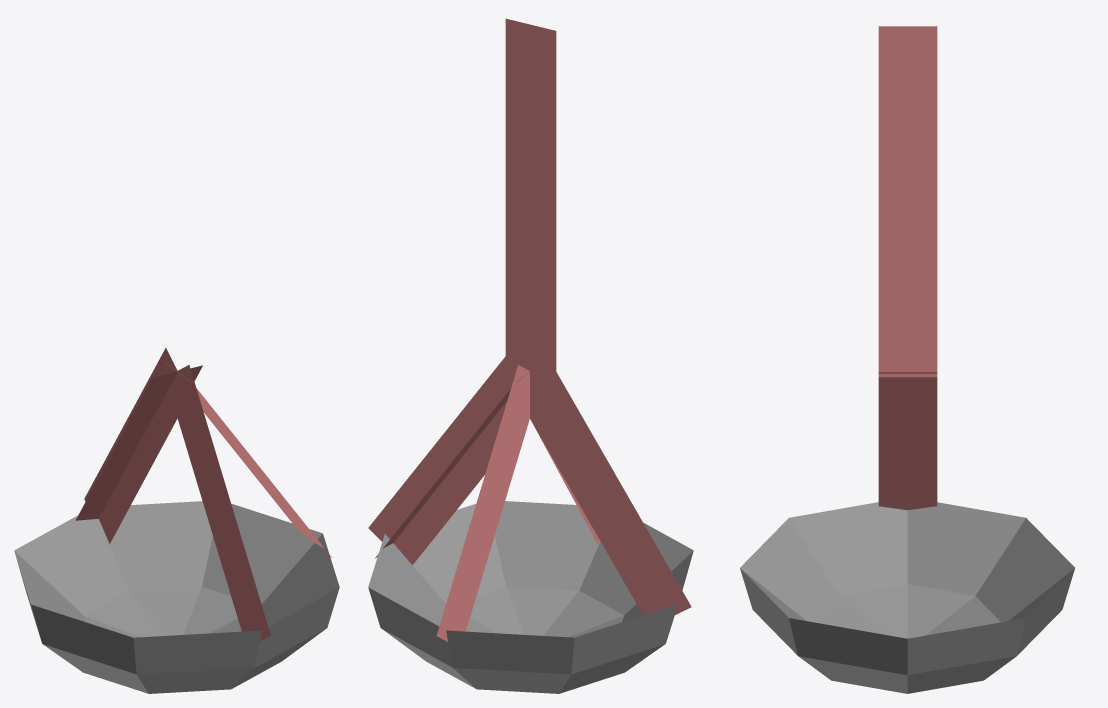
File: SSQ_dungeon_S__SSQ_fire002.gltf
The picture shows the model from 3 angles, left to right: view 1: azimuth 30°, elevation 25°; view 2: azimuth 150°, elevation 25°; view 3: azimuth 270°, elevation 25°; orthographic projection.
Parts seen in each view (by area): view 1: SSQ_fire002; view 2: SSQ_fire002; view 3: SSQ_fire002.
Part boxes in pixels (bbox=[...]): SSQ_fire002: bbox=[14, 348, 339, 693]; SSQ_fire002: bbox=[368, 18, 693, 693]; SSQ_fire002: bbox=[740, 26, 1074, 693].
Size of the model in its own units: 0.3546 by 0.6811 by 0.3546.
